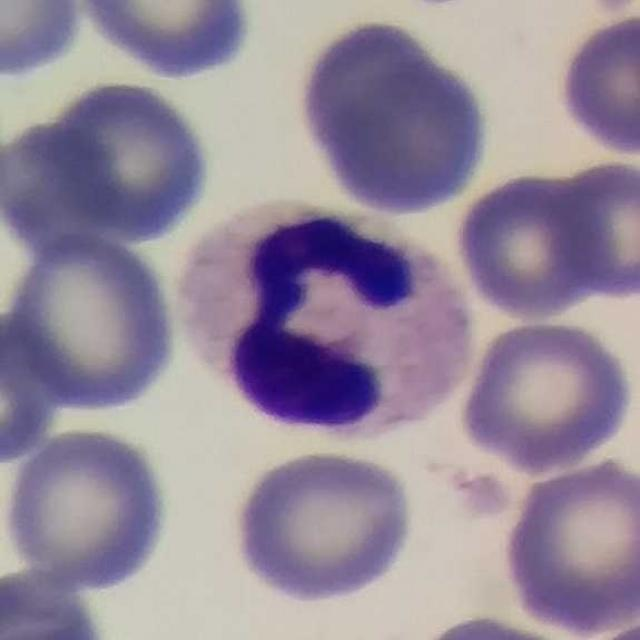Neutrophil: (158, 193, 486, 453)
RBC: (4, 72, 220, 253), (1, 228, 185, 421), (225, 444, 418, 608), (1, 423, 174, 594), (454, 315, 638, 474), (317, 63, 493, 219), (495, 454, 640, 638), (451, 164, 610, 322), (302, 19, 429, 161), (68, 0, 259, 83), (543, 156, 640, 305), (552, 10, 640, 160), (0, 303, 67, 471), (0, 563, 111, 640), (0, 0, 88, 83), (399, 609, 609, 640)
